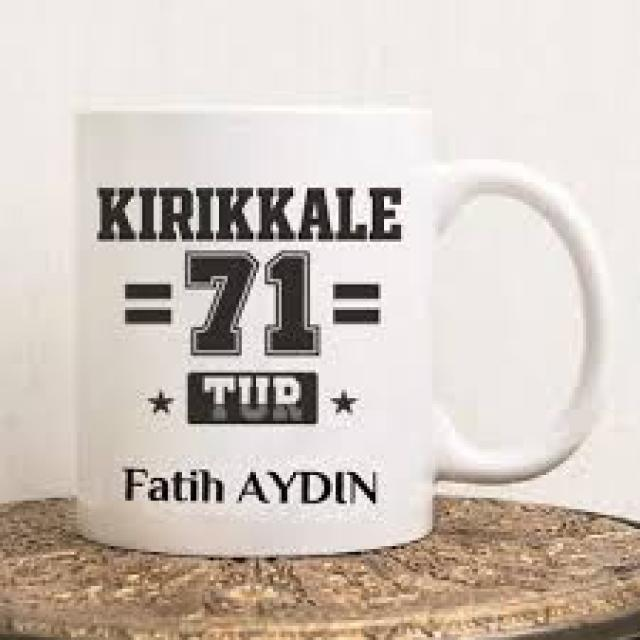taza: (69, 108, 612, 556)
